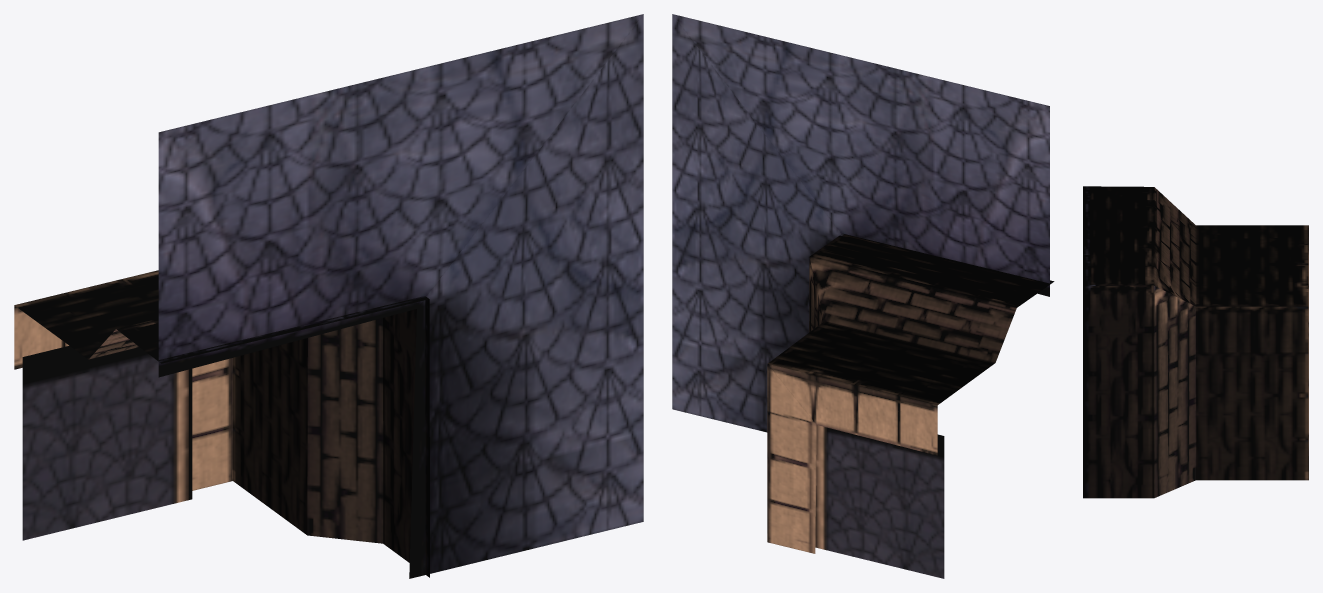
Rendered from ex_OutCorner0.obj.
The picture shows the model from 3 angles, left to right: view 1: azimuth 30°, elevation 25°; view 2: azimuth 150°, elevation 25°; view 3: azimuth 270°, elevation 25°; orthographic projection. The views are drawn at different scales.
Parts seen in each view (by area): view 1: ex_OutCorner0_Plane.103, object 2; view 2: ex_OutCorner0_Plane.103, object 2; view 3: ex_OutCorner0_Plane.103.
Boxes of the visible parts, box(x1,y1,x2,y2) form: ex_OutCorner0_Plane.103: box(14, 14, 643, 578); object 2: box(22, 345, 192, 540); ex_OutCorner0_Plane.103: box(672, 14, 1054, 553); object 2: box(815, 425, 944, 578); ex_OutCorner0_Plane.103: box(1083, 186, 1308, 498).
Bounding box in the file's own units: 257 × 256 × 136.
